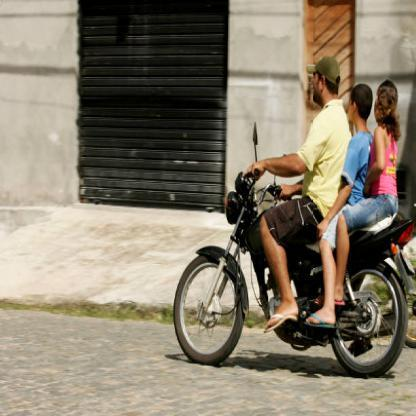Motorcycle: (167, 156, 416, 373)
